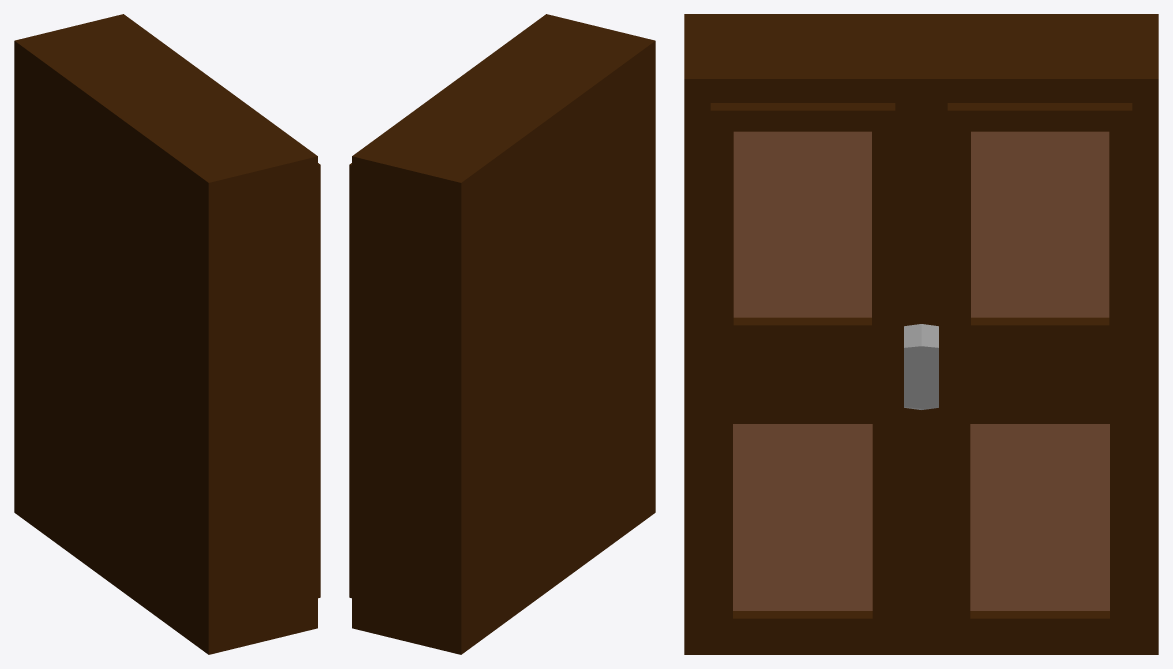
The model's file is Armario2.fbx.
The picture shows the model from 3 angles, left to right: view 1: azimuth 30°, elevation 25°; view 2: azimuth 150°, elevation 25°; view 3: azimuth 270°, elevation 25°; orthographic projection. The views are drawn at different scales.
Visible parts, largest first — view 1: Armario; view 2: Armario; view 3: Armario.
Part boxes in pixels (bbox=[...]): Armario: bbox=[14, 14, 320, 654]; Armario: bbox=[349, 14, 655, 654]; Armario: bbox=[684, 14, 1158, 654].
Bounding box in the file's own units: 68.85 × 245 × 183.
